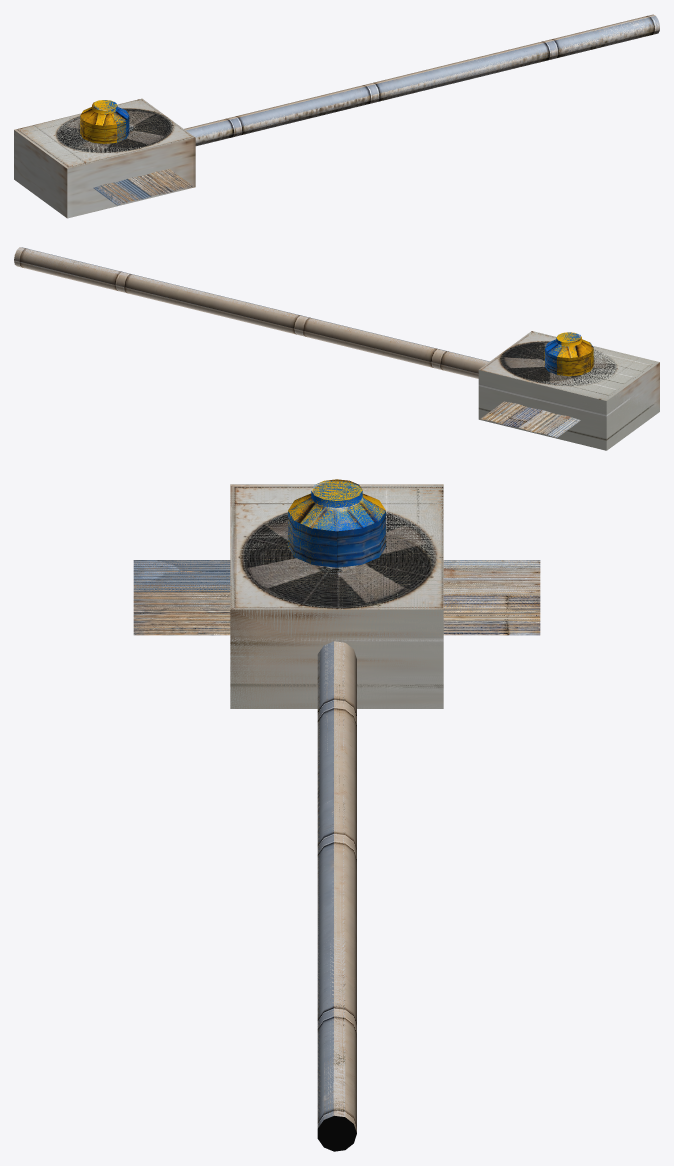
File: props_atlas.glb
3 views of the same model, one above another, from view 1: azimuth 30°, elevation 25°; view 2: azimuth 150°, elevation 25°; view 3: azimuth 270°, elevation 25° (orthographic). The views are drawn at different scales.
Parts seen in each view (by area): view 1: ac3, pipe4, pipe1, ac2, tank4, sheet1, sheet2, pipe3, tank3; view 2: ac2, pipe3, ac3, pipe2, sheet2, tank4, sheet1, tank3, pipe4; view 3: ac3, ac2, sheet2, sheet1, pipe3, pipe4, tank3, pipe1, tank4, pipe2.
Boxes of the visible parts, box(x1,y1,x2,y2) form: ac3: box(14, 98, 195, 218); pipe4: box(186, 16, 659, 145); pipe1: box(187, 15, 659, 146); ac2: box(15, 99, 194, 168); tank4: box(80, 100, 125, 143); sheet1: box(93, 169, 193, 205); sheet2: box(96, 169, 192, 204); pipe3: box(184, 14, 654, 130); tank3: box(83, 100, 129, 143); ac2: box(478, 331, 659, 450); pipe3: box(14, 247, 489, 378); ac3: box(479, 331, 659, 444); pipe2: box(14, 247, 488, 373); sheet2: box(480, 401, 580, 436); tank4: box(544, 332, 593, 376); sheet1: box(481, 402, 580, 437); tank3: box(544, 332, 593, 374); pipe4: box(21, 247, 489, 361); ac3: box(230, 484, 443, 708); ac2: box(230, 484, 443, 708); sheet2: box(133, 560, 540, 635); sheet1: box(133, 560, 540, 635); pipe3: box(318, 641, 356, 1150); pipe4: box(317, 641, 356, 1149); tank3: box(288, 479, 385, 567); pipe1: box(317, 642, 356, 1151); tank4: box(288, 479, 385, 564); pipe2: box(317, 642, 356, 1151).
Size of the model in its own units: 5.58 by 0.6781 by 1.6.
Materials: 1 (1 with a texture image).
